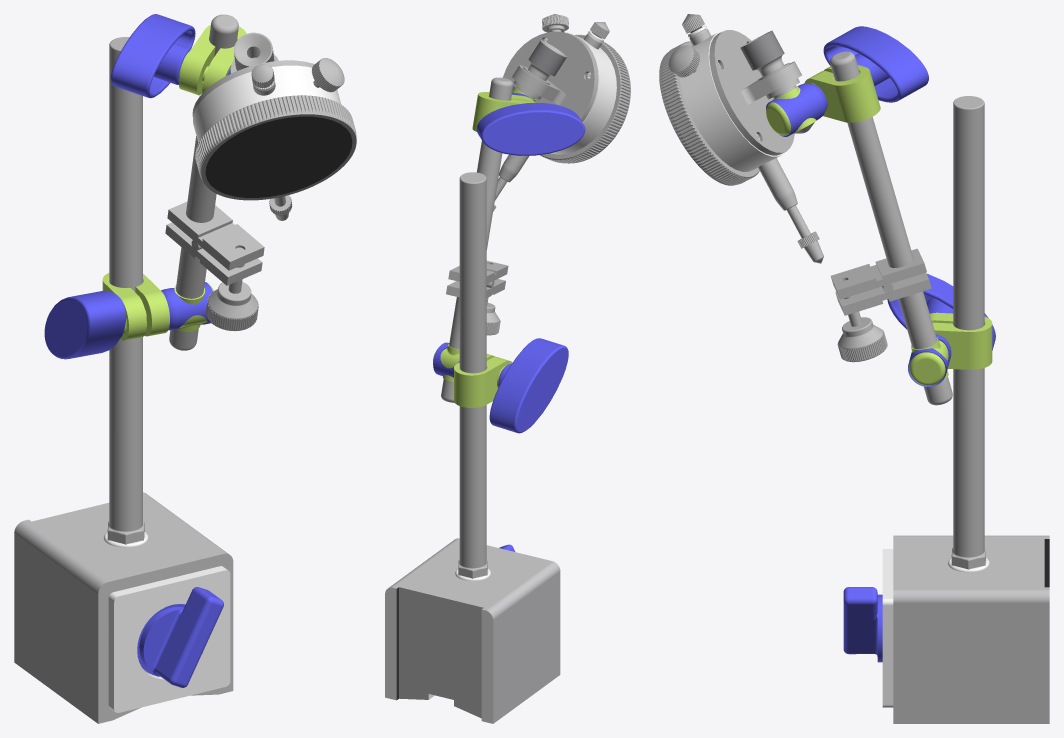
3 renders of one model, left to right at view 1: azimuth 30°, elevation 25°; view 2: azimuth 150°, elevation 25°; view 3: azimuth 270°, elevation 25°, orthographic. The views are drawn at different scales.
Visible parts, largest first — view 1: magnetic base, primary shaft, saklar holder, pengencang4 (×2), kaca, swicth, dialindicator, dial body, hub1, pengencang3, pengencang5, hub4 (+8 smaller); view 2: magnetic base, primary shaft, pengencang4 (×2), dialcover, dialindicator, dial body, pengencang3, shaft2.2, mur dial, pengencang5, insert jarum, shaft2.1 (+4 smaller); view 3: magnetic base, primary shaft, dialcover, pengencang4 (×2), shaft2.2, dial body, dialindicator, swicth, pengencang5, pengencang3, pengencang2 (×2), hub1 (+9 smaller).
Part boxes in pixels (x1,y1,x2,y2): magnetic base: (14,492,233,723); primary shaft: (107,37,144,544); saklar holder: (108,566,230,712); pengencang4 (×2): (44,14,195,359); kaca: (205,116,352,197); swicth: (137,587,223,687); dialindicator: (195,95,356,200); dial body: (193,65,340,142); hub1: (167,201,264,270); pengencang3: (102,273,169,340); pengencang5: (179,25,246,95); hub4: (206,247,258,331); magnetic base: (385,538,560,723); primary shaft: (458,172,487,578); pengencang4 (×2): (476,103,585,433); dialcover: (502,31,597,122); dialindicator: (540,34,630,163); dial body: (550,32,616,154); pengencang3: (454,354,512,407); shaft2.2: (477,77,513,250); mur dial: (513,40,566,99); pengencang5: (472,92,534,131); insert jarum: (499,33,602,182); shaft2.1: (441,297,459,402); magnetic base: (893,535,1049,723); primary shaft: (951,96,985,569); dialcover: (709,30,801,155); pengencang4 (×2): (823,26,995,350); shaft2.2: (830,51,913,267); dial body: (679,31,784,171); dialindicator: (659,41,759,185); swicth: (843,587,882,662); pengencang5: (804,65,880,122); pengencang3: (930,312,992,369); pengencang2 (×2): (766,86,948,385); hub1: (830,248,926,299).
Bounding box in the file's own units: 6.72 × 28.47 × 14.96.
